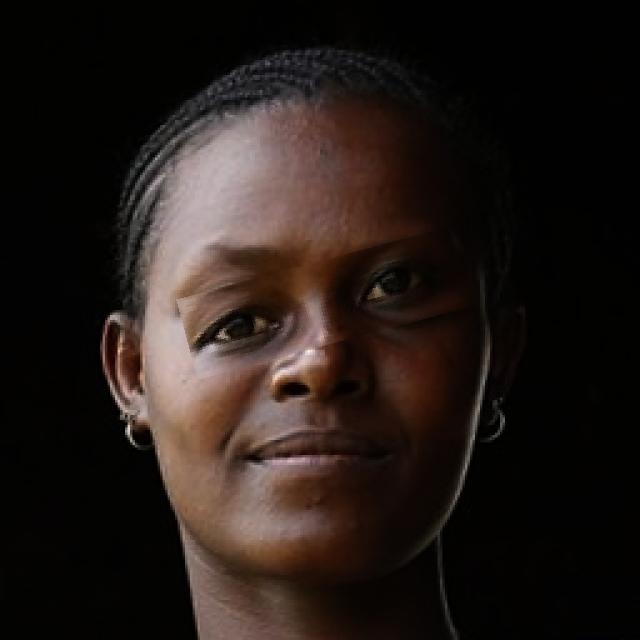no-glasses: (179, 242, 476, 361)
